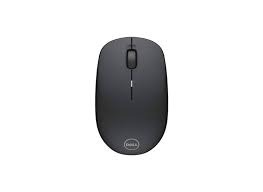mouse: (92, 28, 171, 161)
